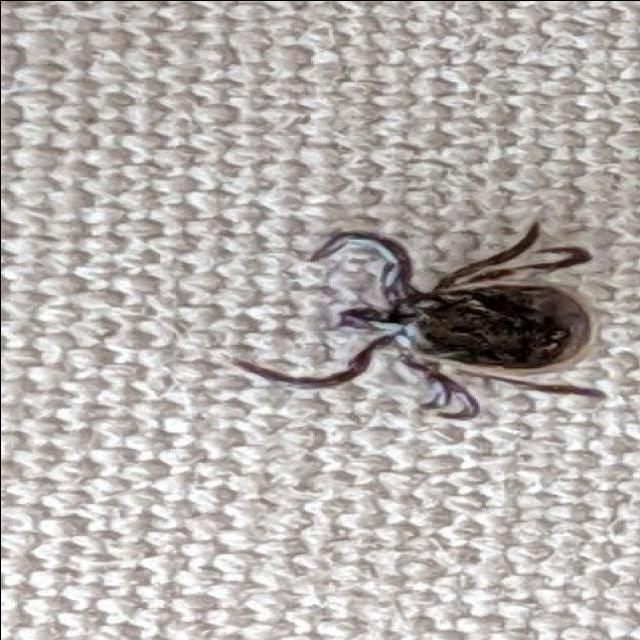Ixodes Ricinus-M: (231, 222, 606, 422)
